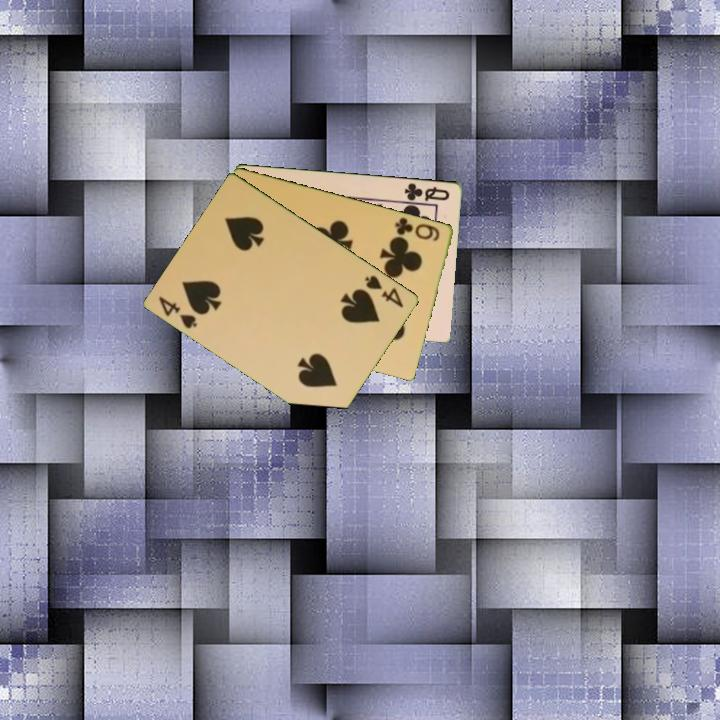4s: (361, 272, 407, 311), (155, 293, 200, 332)
6c: (392, 213, 443, 244)
Qc: (401, 179, 453, 204)
